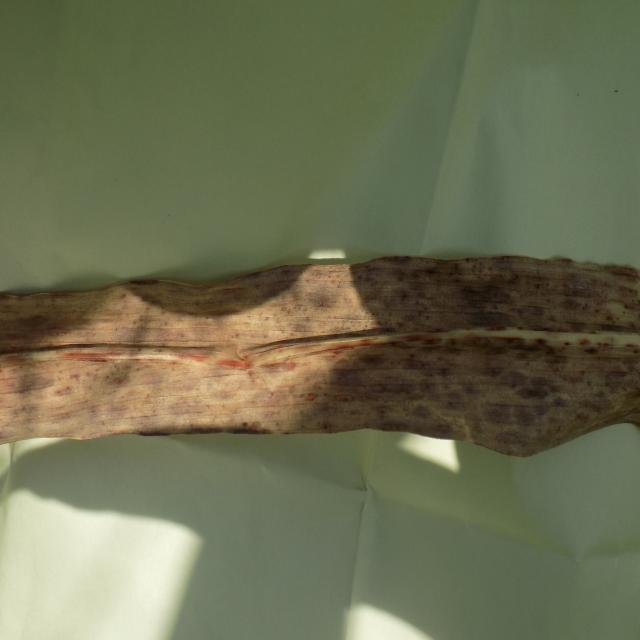millet_rust: (0, 252, 640, 465)
